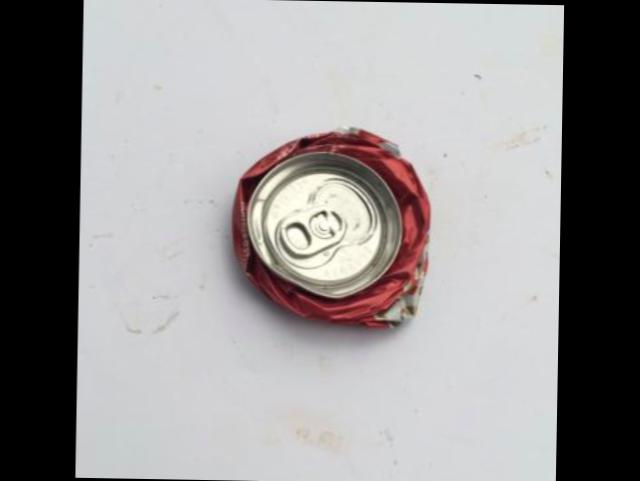metal: (231, 126, 428, 324)
